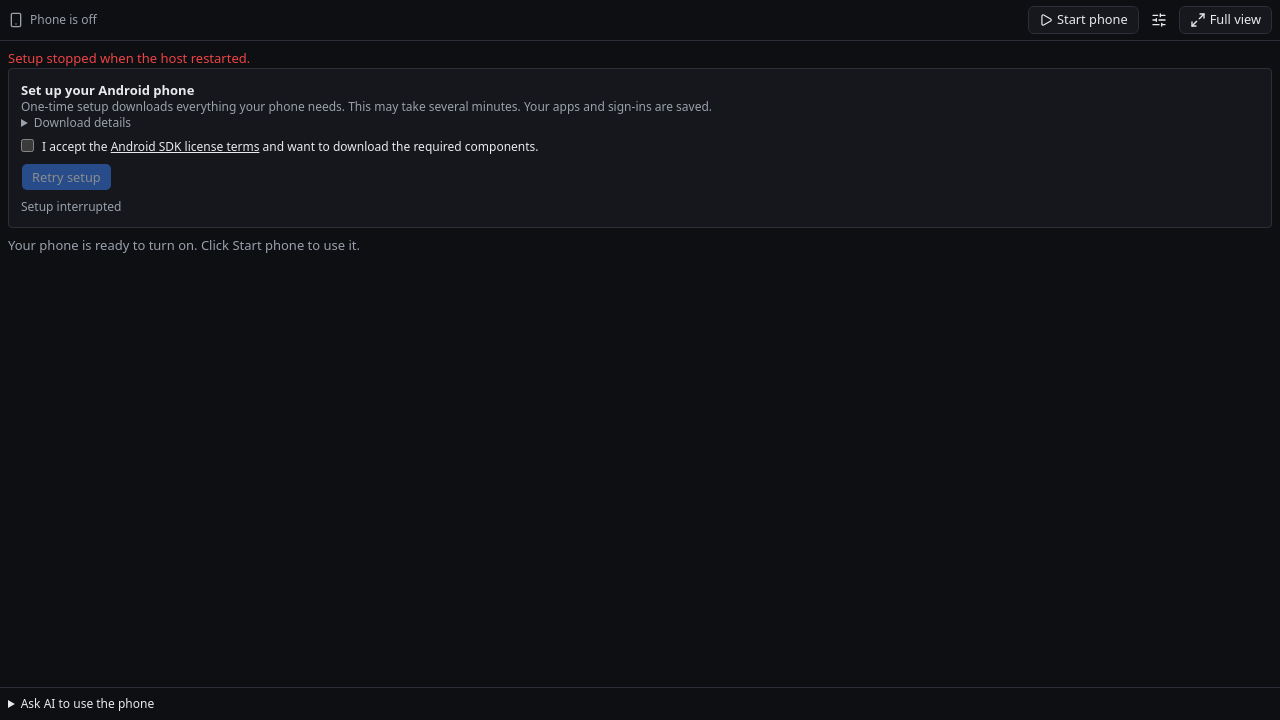
Mobile Workspace › keeps interrupted setup visible after reopening and offers an explicit retry
expect the text "Setup stopped when the host restarted." is shown: met, box [8,49,250,67]
expect the button "Retry setup" is disabled: met, box [21,163,112,191]
Click the checkbox named "Accept Android SDK license terms": coordinates (28, 146) [21,139,34,152]
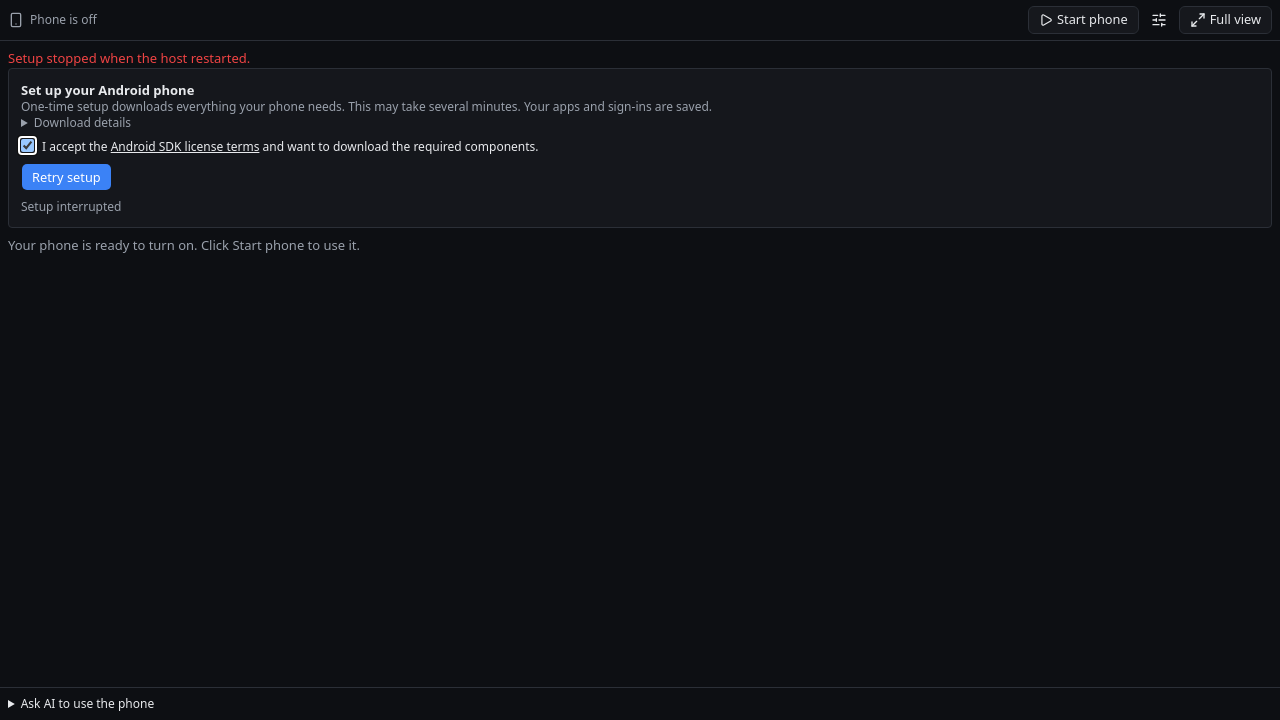
expect the button "Retry setup" is enabled: met, box [21,163,112,191]
